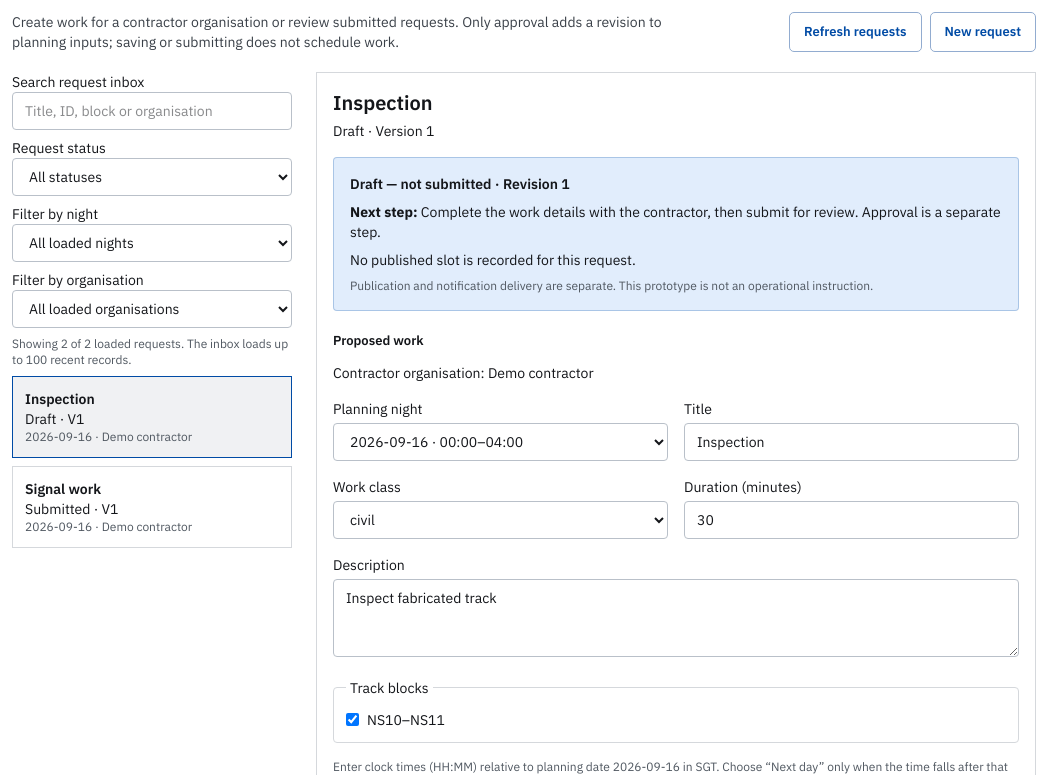
Test: structured request intake › filters the loaded inbox without replacing the selected request
This screenshot has width=1048, height=775.
expect the field labelled "Title" is shown: met, box [684,422,1019,460]
Select "Needs your action" in the dropdown labelled "Request status" at [152, 177], box [12,158,292,196]
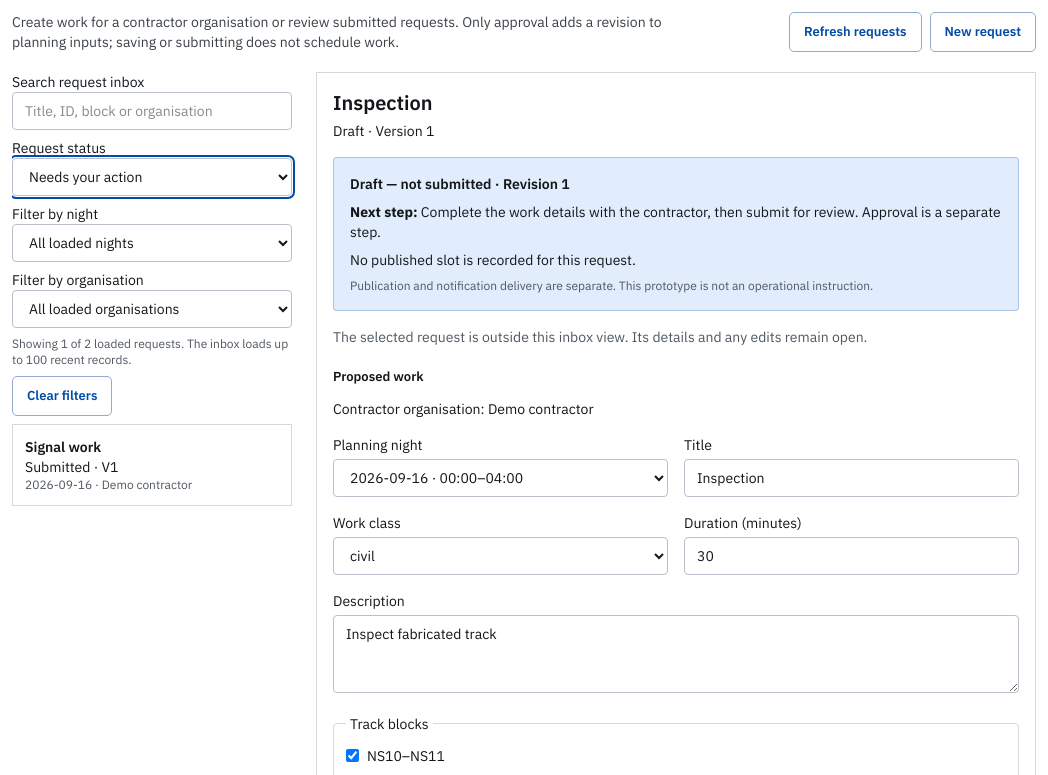
expect the button with aria-label "Open Signal work" is shown: met, box [12,424,292,506]
expect the field labelled "Title" holds "Inspection": met, box [684,458,1019,496]
Type "no match" into the search field labelled "Search request inbox" at [152, 111], box [12,92,292,130]
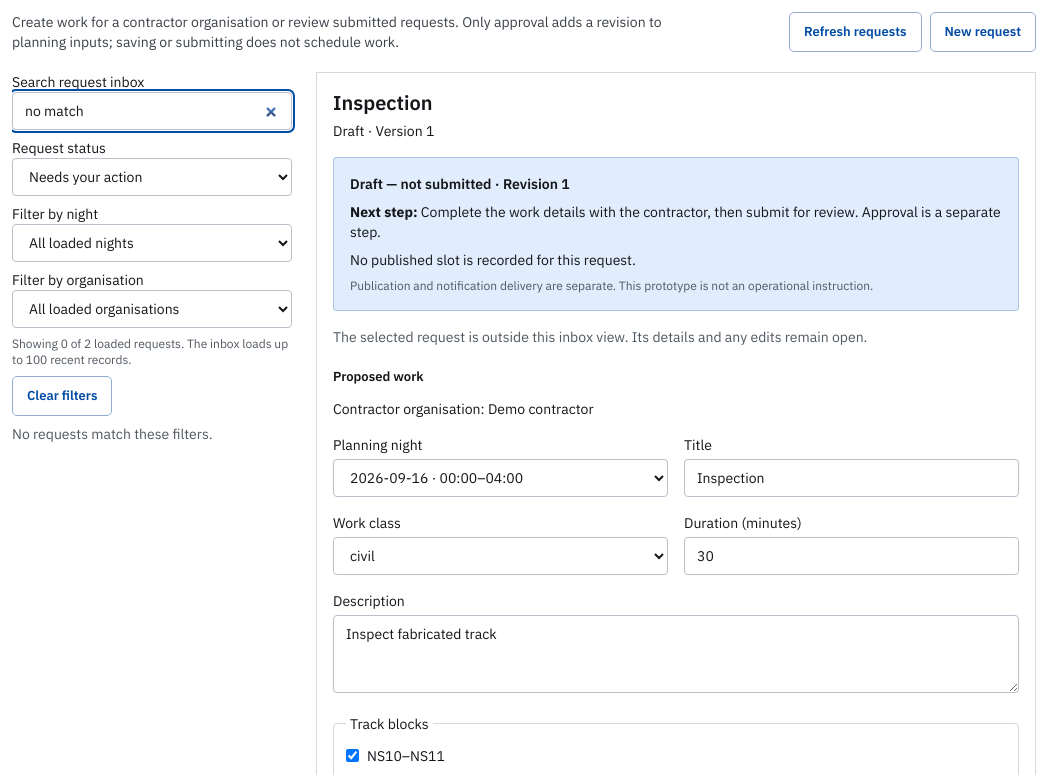
expect the text "No requests match these filters." is shown: met, box [12,424,212,442]
Click the button "Clear filters" at [62, 396], box [12,376,112,416]
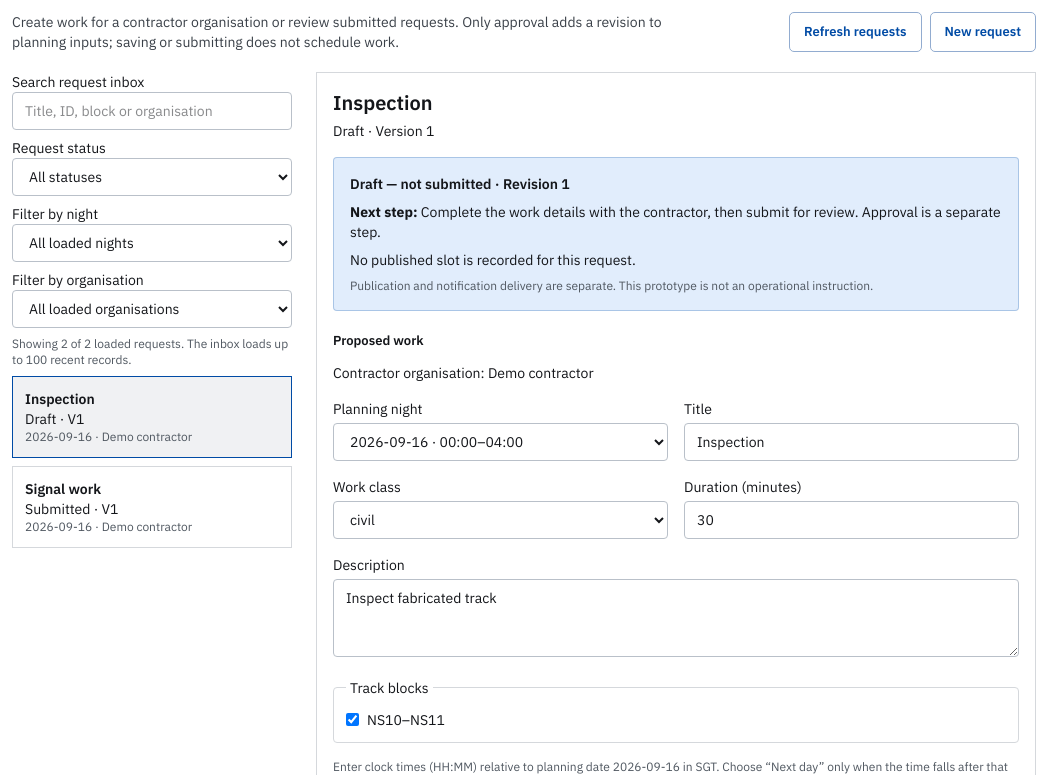
expect the button with aria-label "Open Inspection" is shown: met, box [12,376,292,458]
